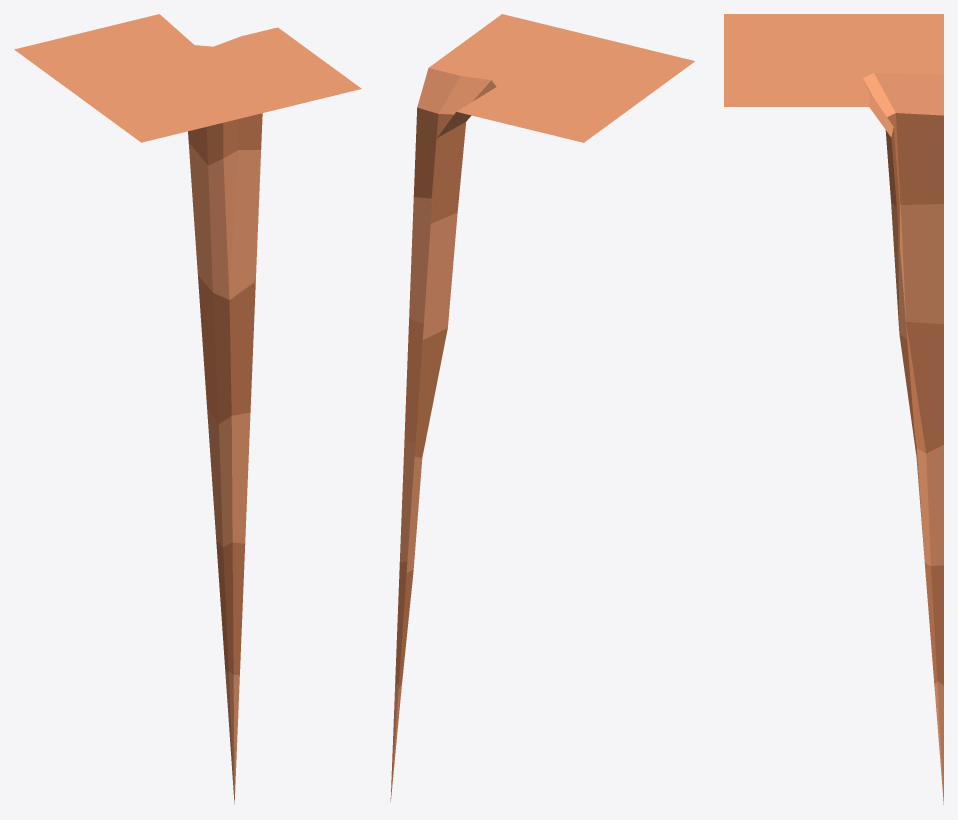
File: Inner_Corner_2.fbx
3 views of the same model, side by side, from view 1: azimuth 30°, elevation 25°; view 2: azimuth 150°, elevation 25°; view 3: azimuth 270°, elevation 25° (orthographic). The views are drawn at different scales.
Visible parts, largest first — view 1: Inner_Corner_2; view 2: Inner_Corner_2; view 3: Inner_Corner_2.
Part boxes in pixels (left/top/right/bottom): Inner_Corner_2: left=14, top=14, right=361, bottom=803; Inner_Corner_2: left=390, top=14, right=694, bottom=801; Inner_Corner_2: left=724, top=14, right=943, bottom=804.
Size of the model in its own units: 200 by 702 by 200.
